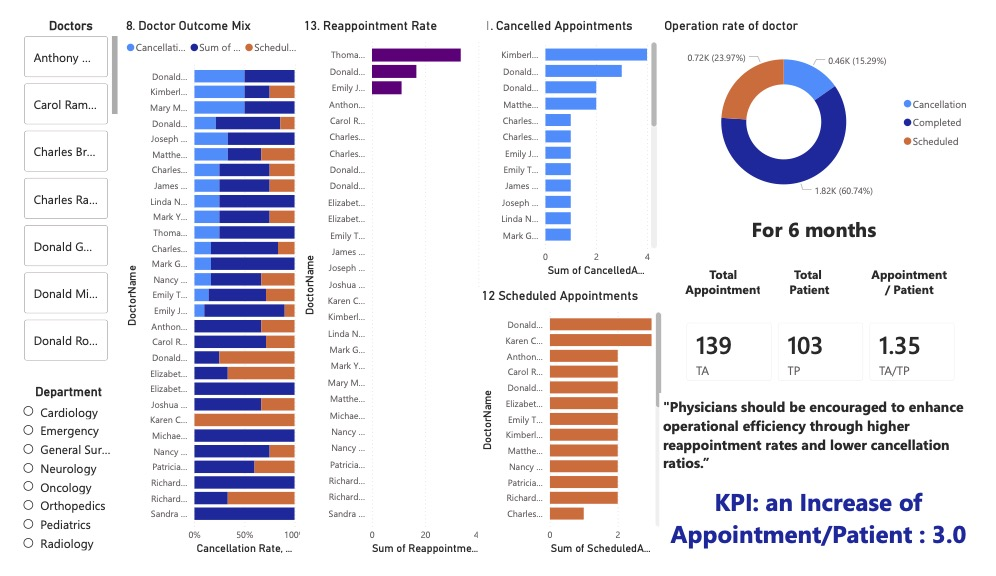

The page's visual inventory and layout, read from the dashboard file:
{"tool":"powerbi","page":{"name":"Opertaion by doctors","canvas":[1280,720],"ordinal":2},"visuals":[{"type":"hundredPercentStackedBarChart","title":"8. Doctor Outcome Mix","fields":{"Category":["doctor_kpi_last6m.DoctorName"],"Y":["Sum(doctor_kpi_last6m.CancellationRate_Last6Months)","Sum(doctor_kpi_last6m.CompletedRate_Last6Months)","Sum(doctor_kpi_last6m.ScheduledRate_Last6Months)"]},"box":[138.6,0,250,720],"z":0},{"type":"cardVisual","fields":{"Data":["Sum(doctor_kpi_last6m.TotalAppointments_Last6Months)","Sum(diagnosis_kpi_last6m.TotalPatients_Last6Months)","Sum(diagnosis_kpi_last6m.AvgAppointmentsPerPatient_Last6Months)"]},"box":[873.9,389.2,393,112.5],"z":0,"group":"g1"},{"type":"barChart","title":"11. Cancelled Appointments","fields":{"Category":["doctor_kpi_last6m.DoctorName"],"Y":["Sum(doctor_kpi_last6m.CancelledAppointments_Last6Months)"]},"box":[607.1,0,250,348.6],"z":1000},{"type":"textbox","box":[873.9,325.4,133.2,63.8],"z":1000,"group":"g1"},{"type":"barChart","title":"13. Reappointment Rate","fields":{"Category":["doctor_kpi_last6m.DoctorName"],"Y":["Sum(doctor_kpi_last6m.ReappointmentRate_Last6Months)"]},"box":[375.7,0,250,720],"z":2000},{"type":"textbox","box":[988.5,325.4,133.2,63.8],"z":2000,"group":"g1"},{"type":"textbox","box":[1121.7,325.4,133.2,63.8],"z":3000,"group":"g1"},{"type":"listSlicer","title":"Department","fields":{"Values":["doctor_kpi_last6m.DepartmentName"]},"box":[0,487.5,135,232.5],"z":3000},{"type":"textbox","box":[861.7,258.3,398.9,57.1],"z":4000,"group":"g2"},{"type":"donutChart","title":"Operation rate of doctor","fields":{"Y":["Sum(doctor_kpi_last6m.CancellationRate_Last6Months)","Sum(doctor_kpi_last6m.CompletedRate_Last6Months)","Sum(doctor_kpi_last6m.ScheduledRate_Last6Months)"]},"box":[856.7,0,423.3,258.3],"z":5000},{"type":"group","id":"g1","title":"Group 1","box":[873.9,325.4,392.8,175.7],"z":6000,"group":"g2"},{"type":"barChart","title":"12 Scheduled Appointments","fields":{"Category":["doctor_kpi_last6m.DoctorName"],"Y":["Sum(doctor_kpi_last6m.ScheduledAppointments_Last6Months)"]},"box":[612.9,360,250,360],"z":7000},{"type":"textbox","box":[855,500,425,220],"z":8000},{"type":"group","id":"g2","title":"Group 2","box":[861.7,258.3,405,241.7],"z":8001},{"type":"advancedSlicerVisual","title":"Doctors","fields":{"Values":["doctor_kpi_last6m.DoctorName"]},"box":[3.3,0,135,468.3],"z":8002}]}

Visuals, with their boxes in screenshot pixels (x1, y1, x2, y2), scaled from the page's 1280x720 canvas onto the 996x576 screenshot:
"8. Doctor Outcome Mix" hundredPercentStackedBarChart: 108:0:302:575
cardVisual - Sum(doctor_kpi_last6m.TotalAppointments_Last6Months) x Sum(diagnosis_kpi_last6m.TotalPatients_Last6Months): 680:311:986:401
"11. Cancelled Appointments" barChart: 472:0:667:279
textbox: 680:260:784:311
"13. Reappointment Rate" barChart: 292:0:487:575
textbox: 769:260:873:311
textbox: 873:260:976:311
"Department" listSlicer: 0:390:105:575
textbox: 671:207:981:252
"Operation rate of doctor" donutChart: 667:0:995:207
"Group 1" group: 680:260:986:401
"12 Scheduled Appointments" barChart: 477:288:671:575
textbox: 665:400:995:575
"Group 2" group: 671:207:986:400
"Doctors" advancedSlicerVisual: 3:0:108:375
